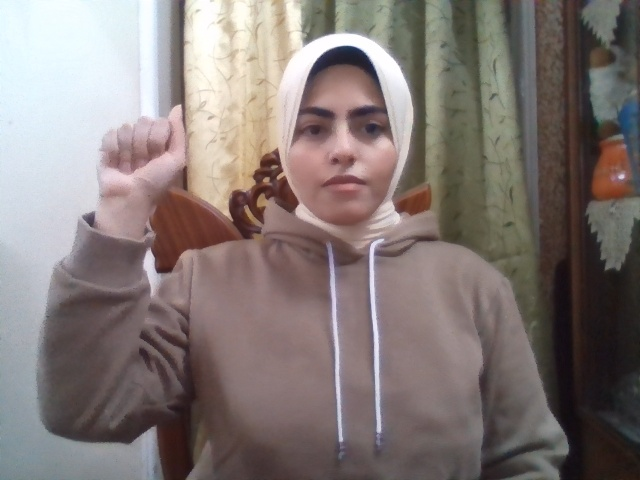A: (96, 105, 186, 198)
